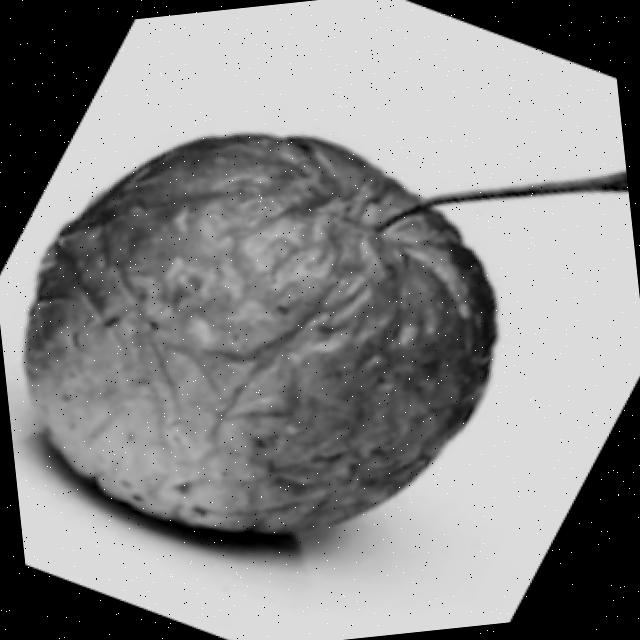overripe: (0, 99, 531, 557)
